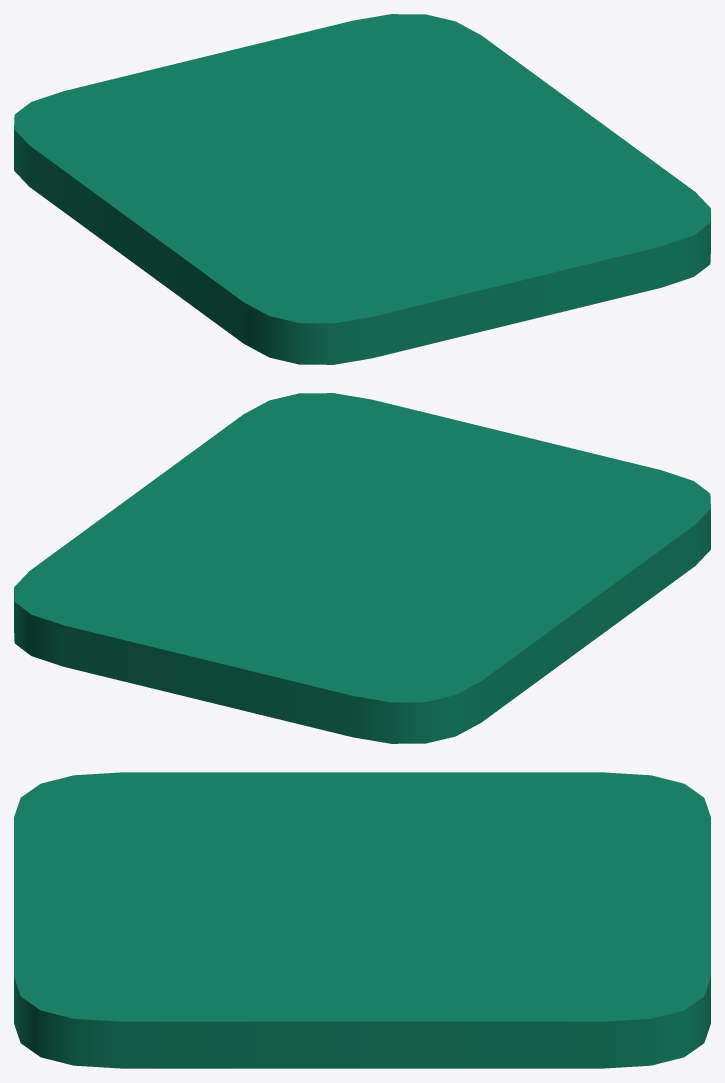
The model's file is sandfield01_s03.FBX.
3 views of the same model, one above another, from view 1: azimuth 30°, elevation 25°; view 2: azimuth 150°, elevation 25°; view 3: azimuth 270°, elevation 25° (orthographic). The views are drawn at different scales.
Visible parts, largest first — view 1: sandfield01_s03; view 2: sandfield01_s03; view 3: sandfield01_s03.
Part boxes in pixels (x1,y1,x2,y2): sandfield01_s03: (14, 14, 710, 364); sandfield01_s03: (14, 393, 710, 743); sandfield01_s03: (14, 772, 710, 1068).
Size of the model in its own units: 277 by 328 by 24.31.
Materials: 1 (1 with a texture image).
